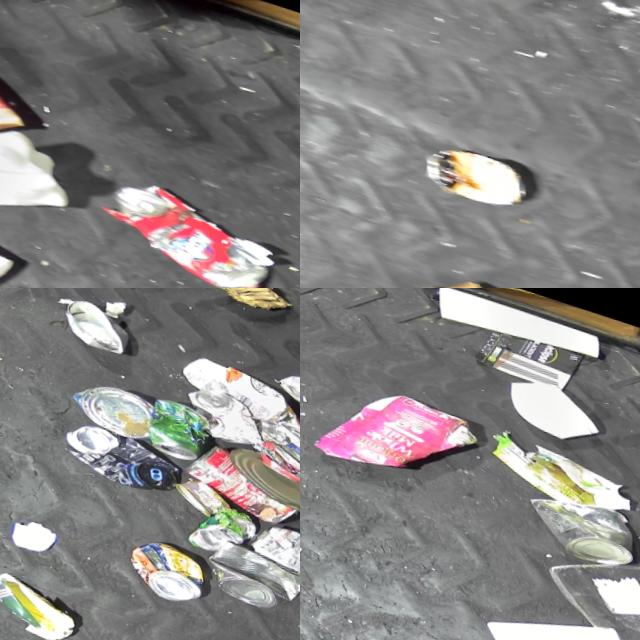can: (89, 161, 279, 288), (178, 426, 300, 520), (518, 473, 640, 563), (57, 409, 182, 493), (415, 127, 537, 210), (199, 523, 300, 610), (122, 525, 209, 601), (178, 373, 269, 444), (66, 366, 155, 436), (221, 432, 300, 510), (141, 387, 213, 458), (185, 488, 259, 554), (54, 288, 131, 349), (244, 506, 300, 580), (170, 463, 233, 514), (273, 395, 300, 497), (272, 356, 300, 415)
milk_jug: (0, 88, 81, 246), (478, 578, 640, 640)
